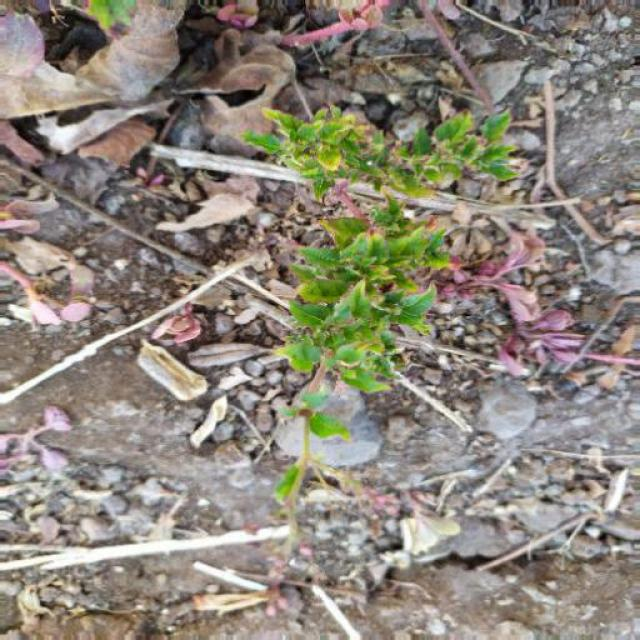weed: (237, 92, 524, 536)
